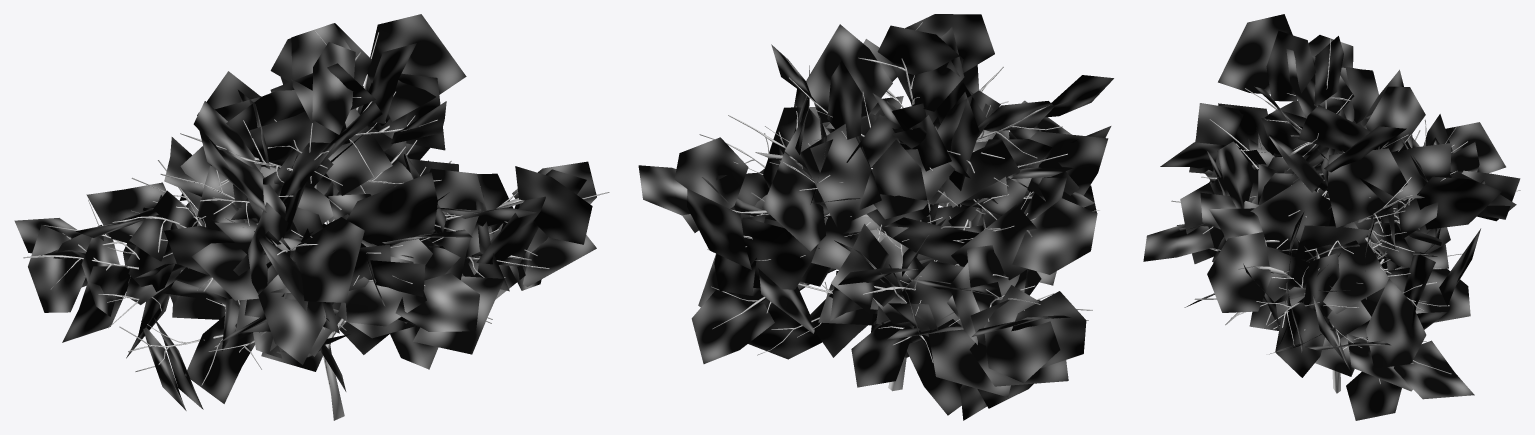
File: SM_Bush.fbx
The picture shows the model from 3 angles, left to right: view 1: azimuth 30°, elevation 25°; view 2: azimuth 150°, elevation 25°; view 3: azimuth 270°, elevation 25°; orthographic projection. The views are drawn at different scales.
Parts seen in each view (by area): view 1: SM_Bush; view 2: SM_Bush; view 3: SM_Bush.
Boxes of the visible parts, <box> form: SM_Bush: <box>14,14,609,420</box>; SM_Bush: <box>638,14,1113,420</box>; SM_Bush: <box>1143,14,1520,420</box>.
Bounding box in the file's own units: 217 × 157 × 156.
